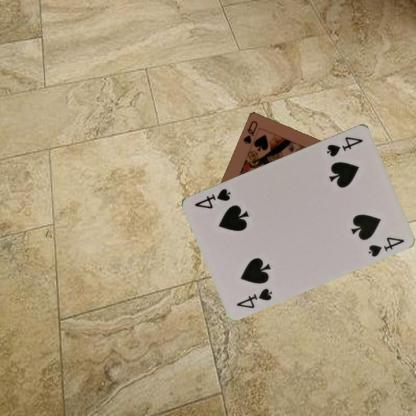4s: (324, 133, 365, 158), (234, 285, 274, 310)
Qs: (240, 118, 259, 146)
